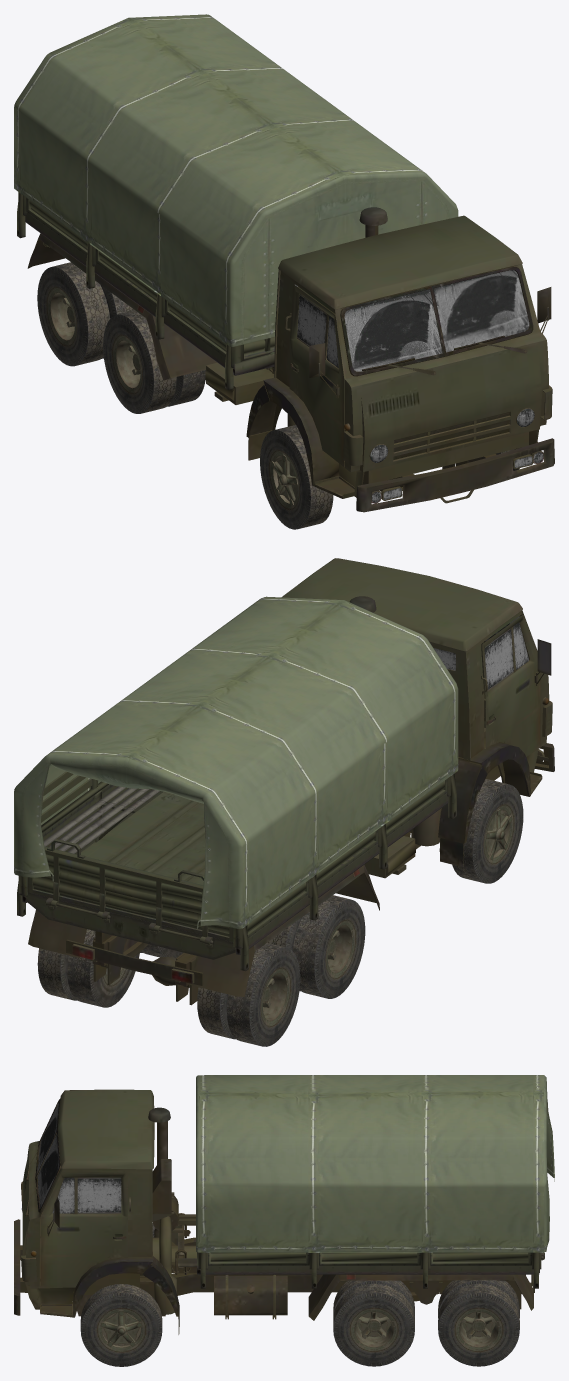
File: kamaz_5330.glb
3 views of the same model, one above another, from view 1: azimuth 30°, elevation 25°; view 2: azimuth 150°, elevation 25°; view 3: azimuth 270°, elevation 25° (orthographic). The views are drawn at different scales.
Visible parts, largest first — view 1: Kung_1, Body_0, Chassi_2; view 2: Kung_1, Chassi_2, Body_0; view 3: Kung_1, Body_0, Chassi_2.
Boxes of the visible parts, left/top/right/bottom form: Kung_1: left=14, top=14, right=458, bottom=346; Body_0: left=27, top=207, right=554, bottom=512; Chassi_2: left=17, top=192, right=543, bottom=529; Kung_1: left=14, top=596, right=458, bottom=928; Chassi_2: left=17, top=616, right=528, bottom=1046; Body_0: left=28, top=558, right=554, bottom=1005; Kung_1: left=196, top=1075, right=554, bottom=1252; Body_0: left=14, top=1089, right=534, bottom=1334; Chassi_2: left=21, top=1102, right=544, bottom=1366.
Size of the model in its own units: 2.93 by 3.35 by 7.08.
5 materials, 5 textured.
